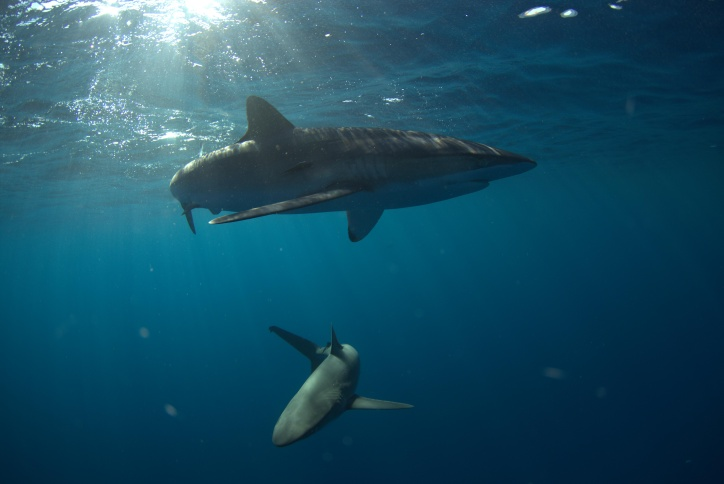Sedoso: (143, 80, 561, 263)
